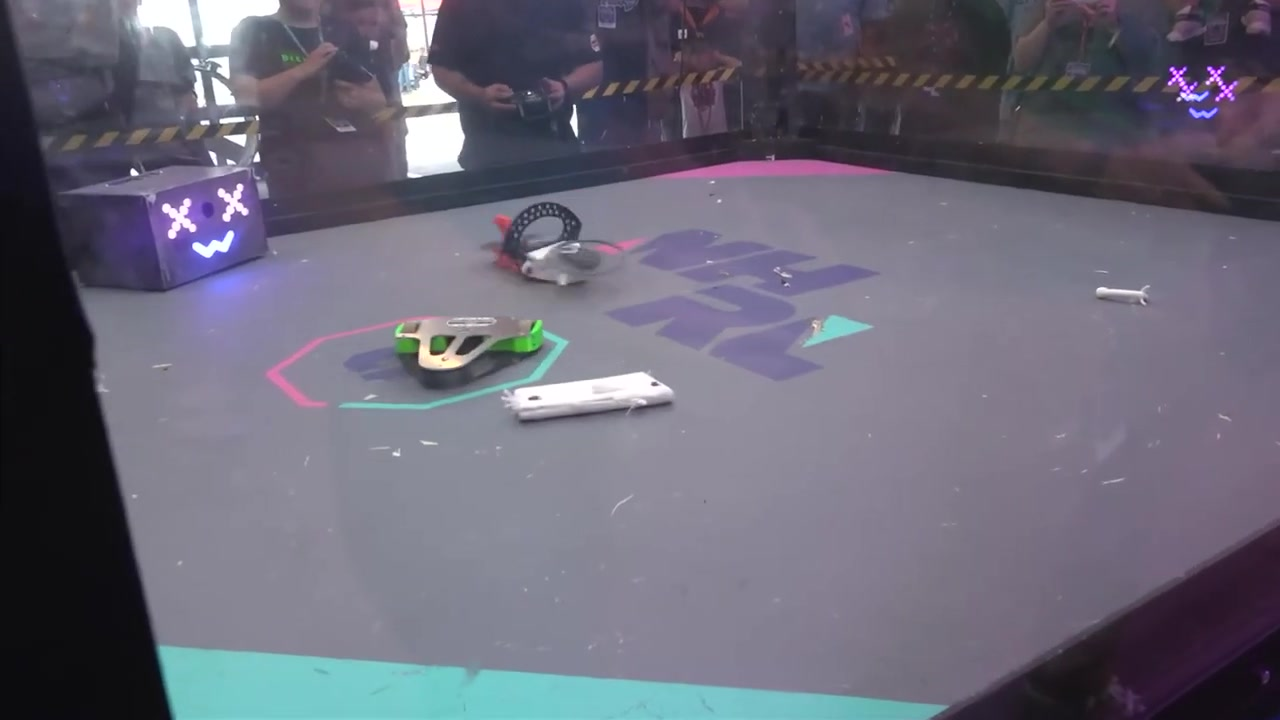combatbot: (475, 203, 624, 289), (393, 314, 544, 387), (504, 371, 673, 423)
debris: (1096, 282, 1154, 309)
housebot: (68, 167, 268, 292)
